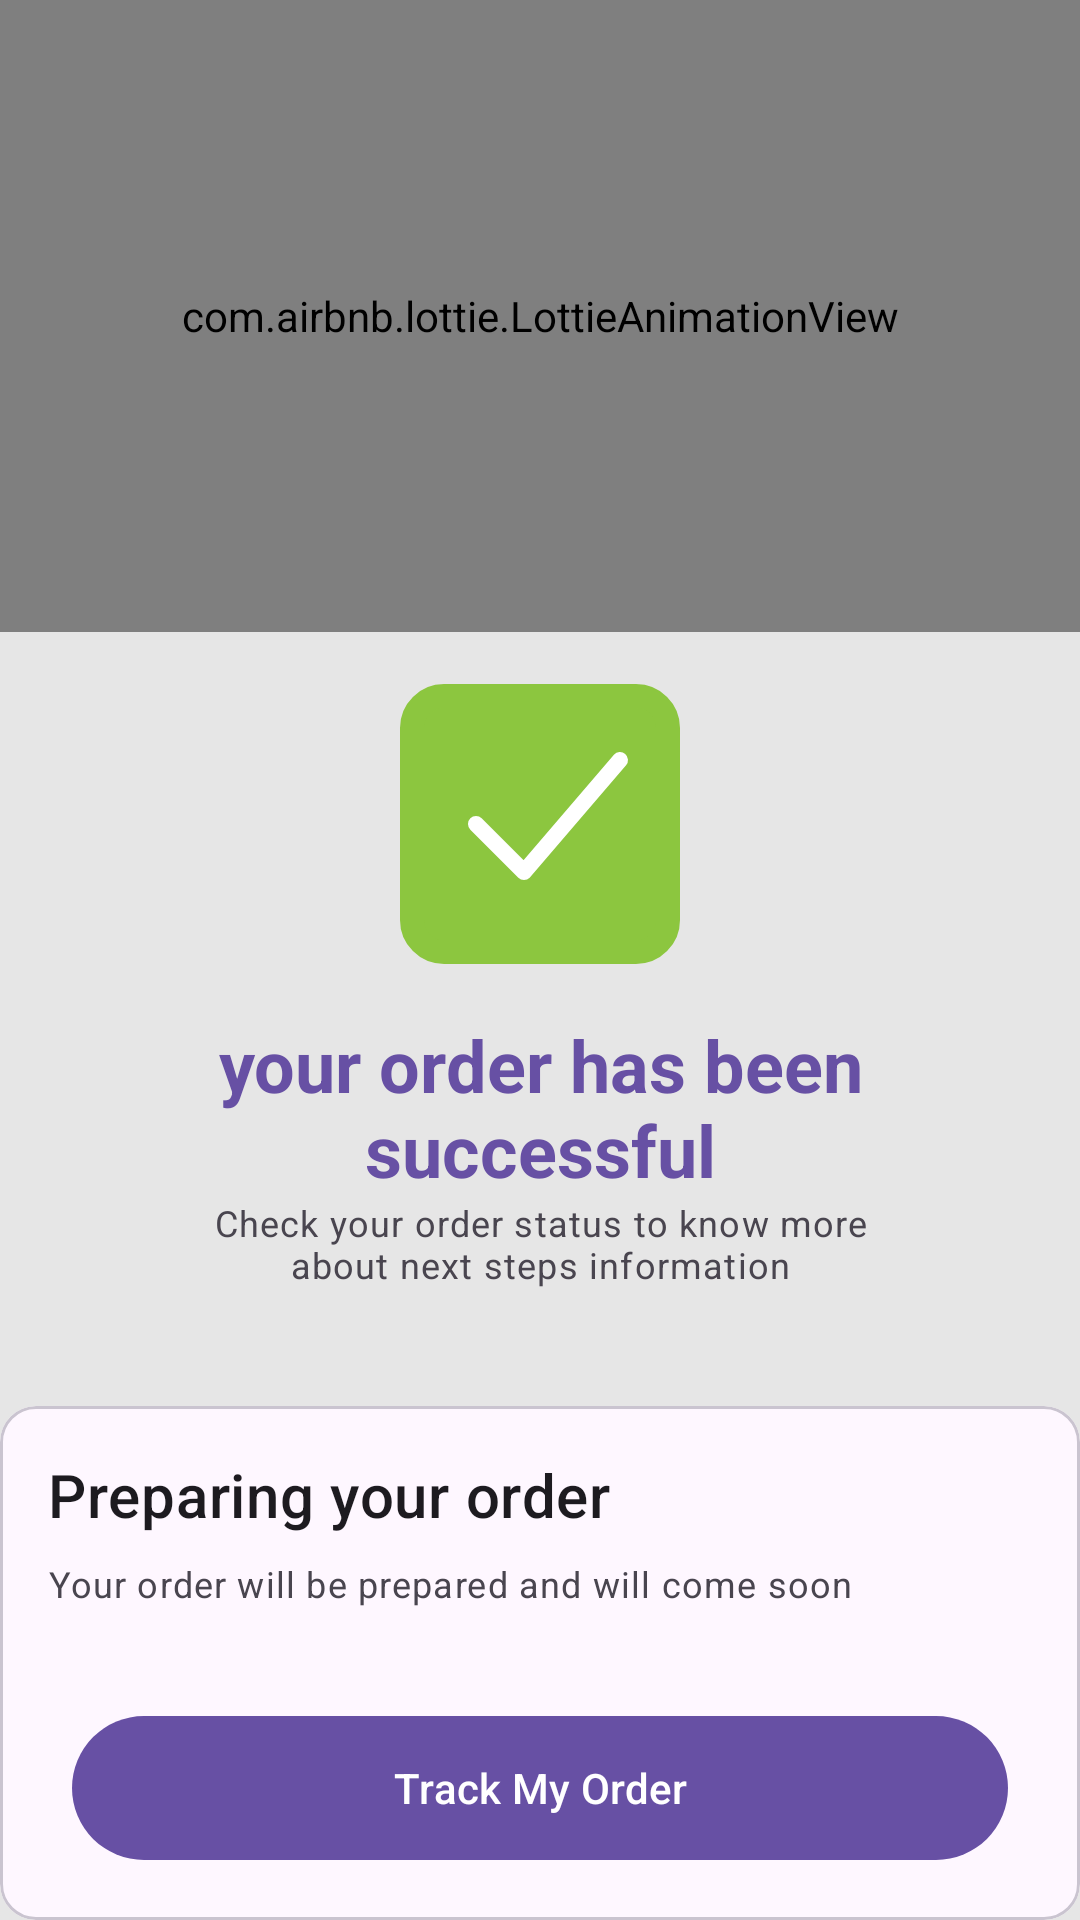

Screen size 1080 × 1920. Icon name, then its box in pixels as {"x1": x1, "y1": y1, "x2": x2, "y2": y2}:
check square: {"x1": 400, "y1": 684, "x2": 680, "y2": 964}
